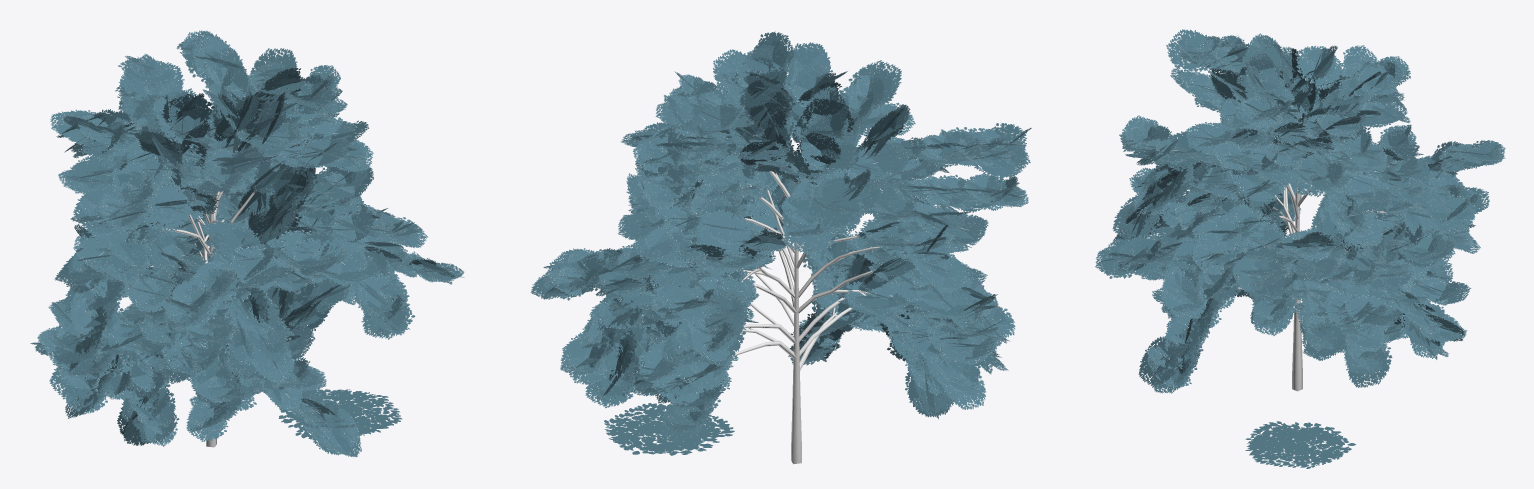
The model's file is arbolito_blender2.fbx.
The picture shows the model from 3 angles, left to right: view 1: azimuth 30°, elevation 25°; view 2: azimuth 150°, elevation 25°; view 3: azimuth 270°, elevation 25°; orthographic projection. The views are drawn at different scales.
Parts seen in each view (by area): view 1: Plane, leafs|Plane|Dupli|55, Tree, leafs|Plane|Dupli|1482, leafs|Plane|Dupli|2824, leafs|Plane|Dupli|888, leafs|Plane|Dupli|376, leafs|Plane|Dupli|1977, leafs|Plane|Dupli|188, leafs|Plane|Dupli|651, leafs|Plane|Dupli|1245, leafs|Plane|Dupli|2017 (+21 smaller); view 2: Tree, Plane, leafs|Plane|Dupli|959, leafs|Plane|Dupli|1629, leafs|Plane|Dupli|43, leafs|Plane|Dupli|1855, leafs|Plane|Dupli|774, leafs|Plane|Dupli|215, leafs|Plane|Dupli|560, leafs|Plane|Dupli|2018, leafs|Plane|Dupli|2106, leafs|Plane|Dupli|54 (+22 smaller); view 3: Plane, Tree, leafs|Plane|Dupli|2462, leafs|Plane|Dupli|1438, leafs|Plane|Dupli|560, leafs|Plane|Dupli|2712, leafs|Plane|Dupli|1513, leafs|Plane|Dupli|1068, leafs|Plane|Dupli|1494, leafs|Plane|Dupli|509, leafs|Plane|Dupli|2862, leafs|Plane|Dupli|1688 (+22 smaller).
Boxes of the visible parts, x1=… form: Plane: x1=278, y1=389, x2=402, y2=439; leafs|Plane|Dupli|55: x1=143, y1=180, x2=193, y2=232; Tree: x1=85, y1=82, x2=423, y2=447; leafs|Plane|Dupli|1482: x1=73, y1=183, x2=125, y2=234; leafs|Plane|Dupli|2824: x1=110, y1=238, x2=149, y2=272; leafs|Plane|Dupli|888: x1=361, y1=294, x2=415, y2=339; leafs|Plane|Dupli|376: x1=80, y1=230, x2=119, y2=271; leafs|Plane|Dupli|1977: x1=53, y1=330, x2=98, y2=375; leafs|Plane|Dupli|188: x1=161, y1=94, x2=214, y2=123; leafs|Plane|Dupli|651: x1=192, y1=35, x2=238, y2=77; leafs|Plane|Dupli|1245: x1=128, y1=60, x2=184, y2=102; leafs|Plane|Dupli|2017: x1=128, y1=278, x2=165, y2=312; Tree: x1=653, y1=83, x2=969, y2=464; Plane: x1=604, y1=403, x2=734, y2=455; leafs|Plane|Dupli|959: x1=808, y1=176, x2=861, y2=229; leafs|Plane|Dupli|1629: x1=697, y1=211, x2=750, y2=257; leafs|Plane|Dupli|43: x1=783, y1=222, x2=838, y2=254; leafs|Plane|Dupli|1855: x1=560, y1=332, x2=605, y2=384; leafs|Plane|Dupli|774: x1=906, y1=225, x2=953, y2=260; leafs|Plane|Dupli|215: x1=676, y1=357, x2=730, y2=388; leafs|Plane|Dupli|560: x1=739, y1=66, x2=786, y2=108; leafs|Plane|Dupli|2018: x1=635, y1=127, x2=685, y2=177; leafs|Plane|Dupli|2106: x1=690, y1=322, x2=730, y2=362; leafs|Plane|Dupli|54: x1=918, y1=257, x2=972, y2=289; Plane: x1=1245, y1=421, x2=1355, y2=468; Tree: x1=1145, y1=69, x2=1386, y2=391; leafs|Plane|Dupli|2462: x1=1429, y1=194, x2=1475, y2=233; leafs|Plane|Dupli|1438: x1=1138, y1=336, x2=1179, y2=387; leafs|Plane|Dupli|560: x1=1295, y1=45, x2=1341, y2=89; leafs|Plane|Dupli|2712: x1=1166, y1=29, x2=1208, y2=71; leafs|Plane|Dupli|1513: x1=1192, y1=219, x2=1240, y2=254; leafs|Plane|Dupli|1068: x1=1112, y1=194, x2=1161, y2=239; leafs|Plane|Dupli|1494: x1=1186, y1=122, x2=1230, y2=155; leafs|Plane|Dupli|509: x1=1346, y1=348, x2=1391, y2=387; leafs|Plane|Dupli|2862: x1=1252, y1=298, x2=1292, y2=336; leafs|Plane|Dupli|1688: x1=1100, y1=238, x2=1135, y2=278.
Bounding box in the file's own units: 4379 × 3779 × 4191.
